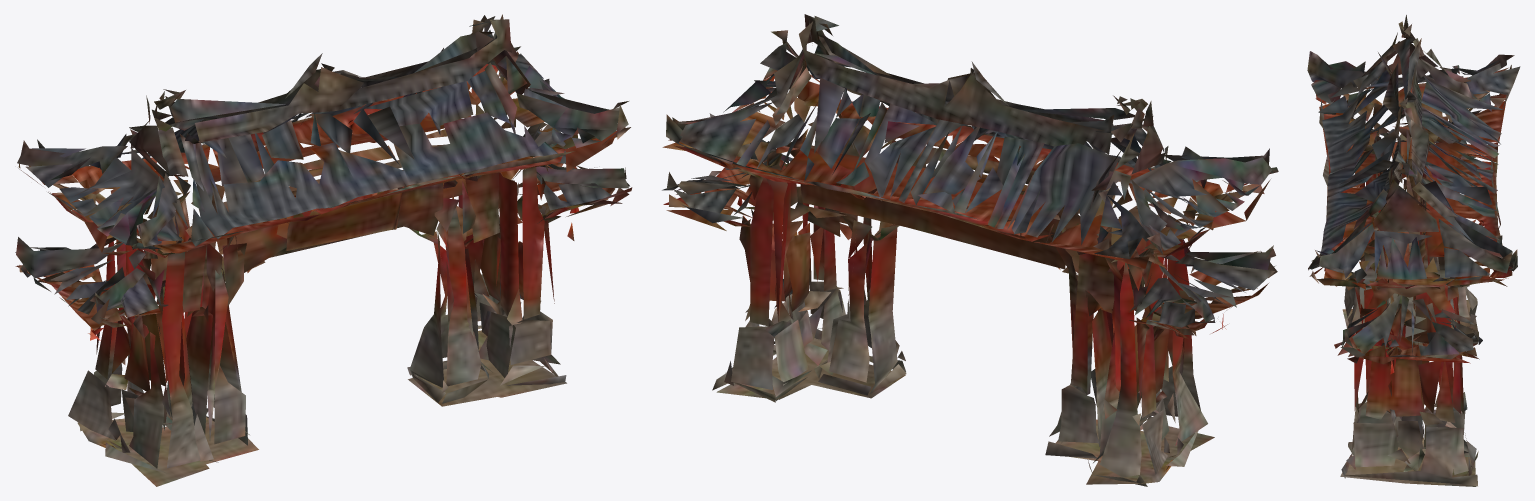
File: portao_lod2.glb
3 views of the same model, side by side, from view 1: azimuth 30°, elevation 25°; view 2: azimuth 150°, elevation 25°; view 3: azimuth 270°, elevation 25° (orthographic). The views are drawn at different scales.
Visible parts, largest first — view 1: portao; view 2: portao; view 3: portao.
Part boxes in pixels (x1,y1,x2,y2): portao: [15, 14, 632, 486]; portao: [662, 14, 1278, 486]; portao: [1307, 15, 1520, 486].
Size of the model in its own units: 9.53 by 6 by 3.76.
Materials: 1 (1 with a texture image).
